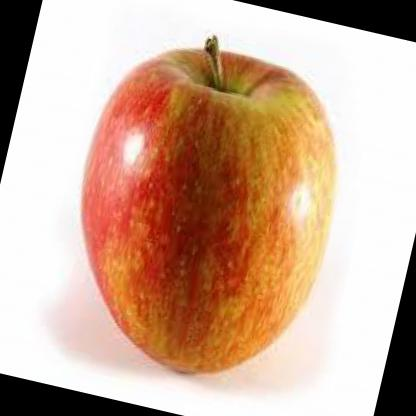apple: (47, 11, 365, 399)
